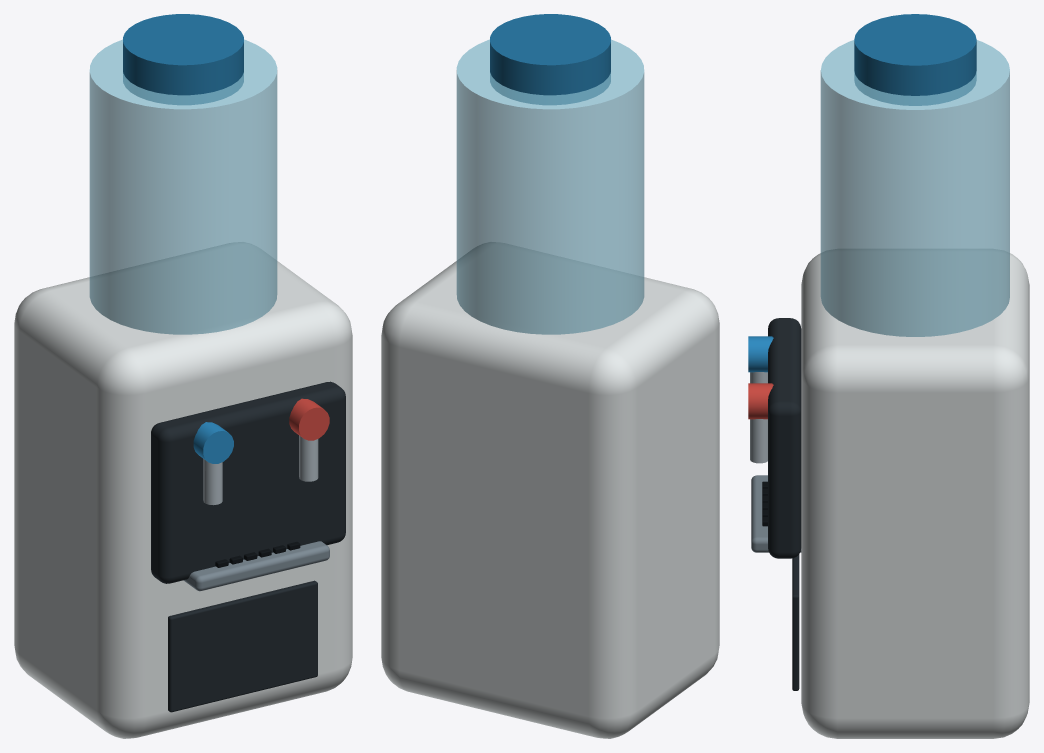
File: water-dispenser.glb
3 renders of one model, left to right at view 1: azimuth 30°, elevation 25°; view 2: azimuth 150°, elevation 25°; view 3: azimuth 270°, elevation 25°, orthographic.
Parts seen in each view (by area): view 1: Water dispenser cabinet, Water bottle, Dispensing alcove, Storage door, Bottle cap, Drip tray, Water tap (×2), Tap spout (×2), Premium bottled water dispenser; view 2: Water dispenser cabinet, Water bottle, Bottle cap; view 3: Water dispenser cabinet, Water bottle, Bottle cap, Dispensing alcove, Water tap (×2), Drip tray, Storage door, Tap spout.
Boxes of the visible parts, x1,y1,x2,y2 form: Water dispenser cabinet: (14,242,352,738); Water bottle: (89,39,277,334); Dispensing alcove: (151,381,345,583); Storage door: (168,580,317,712); Bottle cap: (123,14,243,104); Drip tray: (183,541,329,591); Water tap (×2): (193,398,329,463); Tap spout (×2): (203,435,318,505); Premium bottled water dispenser: (215,541,300,567); Water dispenser cabinet: (381,242,719,738); Water bottle: (456,39,644,334); Bottle cap: (490,14,610,104); Water dispenser cabinet: (801,249,1029,738); Water bottle: (820,40,1009,336); Bottle cap: (854,14,976,105); Dispensing alcove: (768,318,801,558); Water tap (×2): (748,336,773,419); Drip tray: (751,475,801,552); Storage door: (792,554,799,690); Tap spout: (750,419,767,463).
Size of the model in its own units: 1.05 by 2.57 by 1.01.
